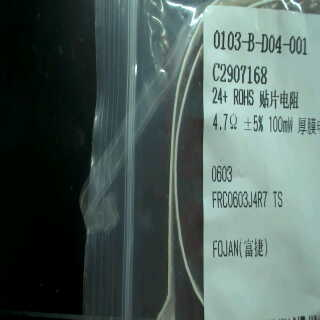4.7R: (213, 110, 241, 131)
